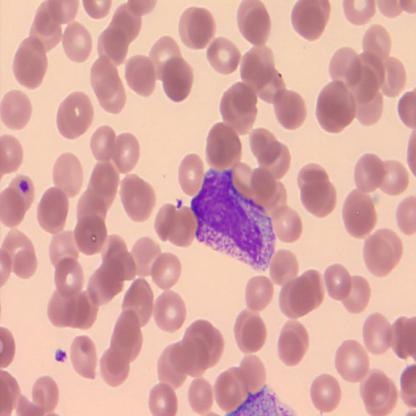Myelocyte: (191, 167, 277, 269)
